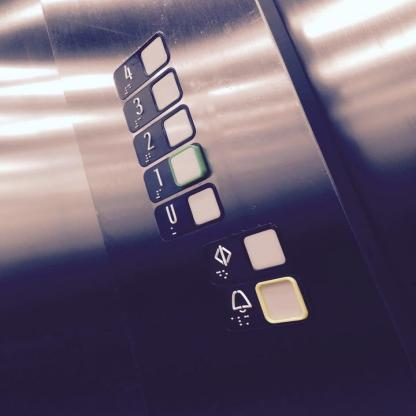1: (142, 141, 213, 204)
2: (131, 102, 197, 168)
3: (121, 66, 184, 134)
4: (112, 29, 171, 100)
U: (152, 181, 223, 243)
alarm: (213, 270, 314, 334)
open: (199, 220, 292, 287)
